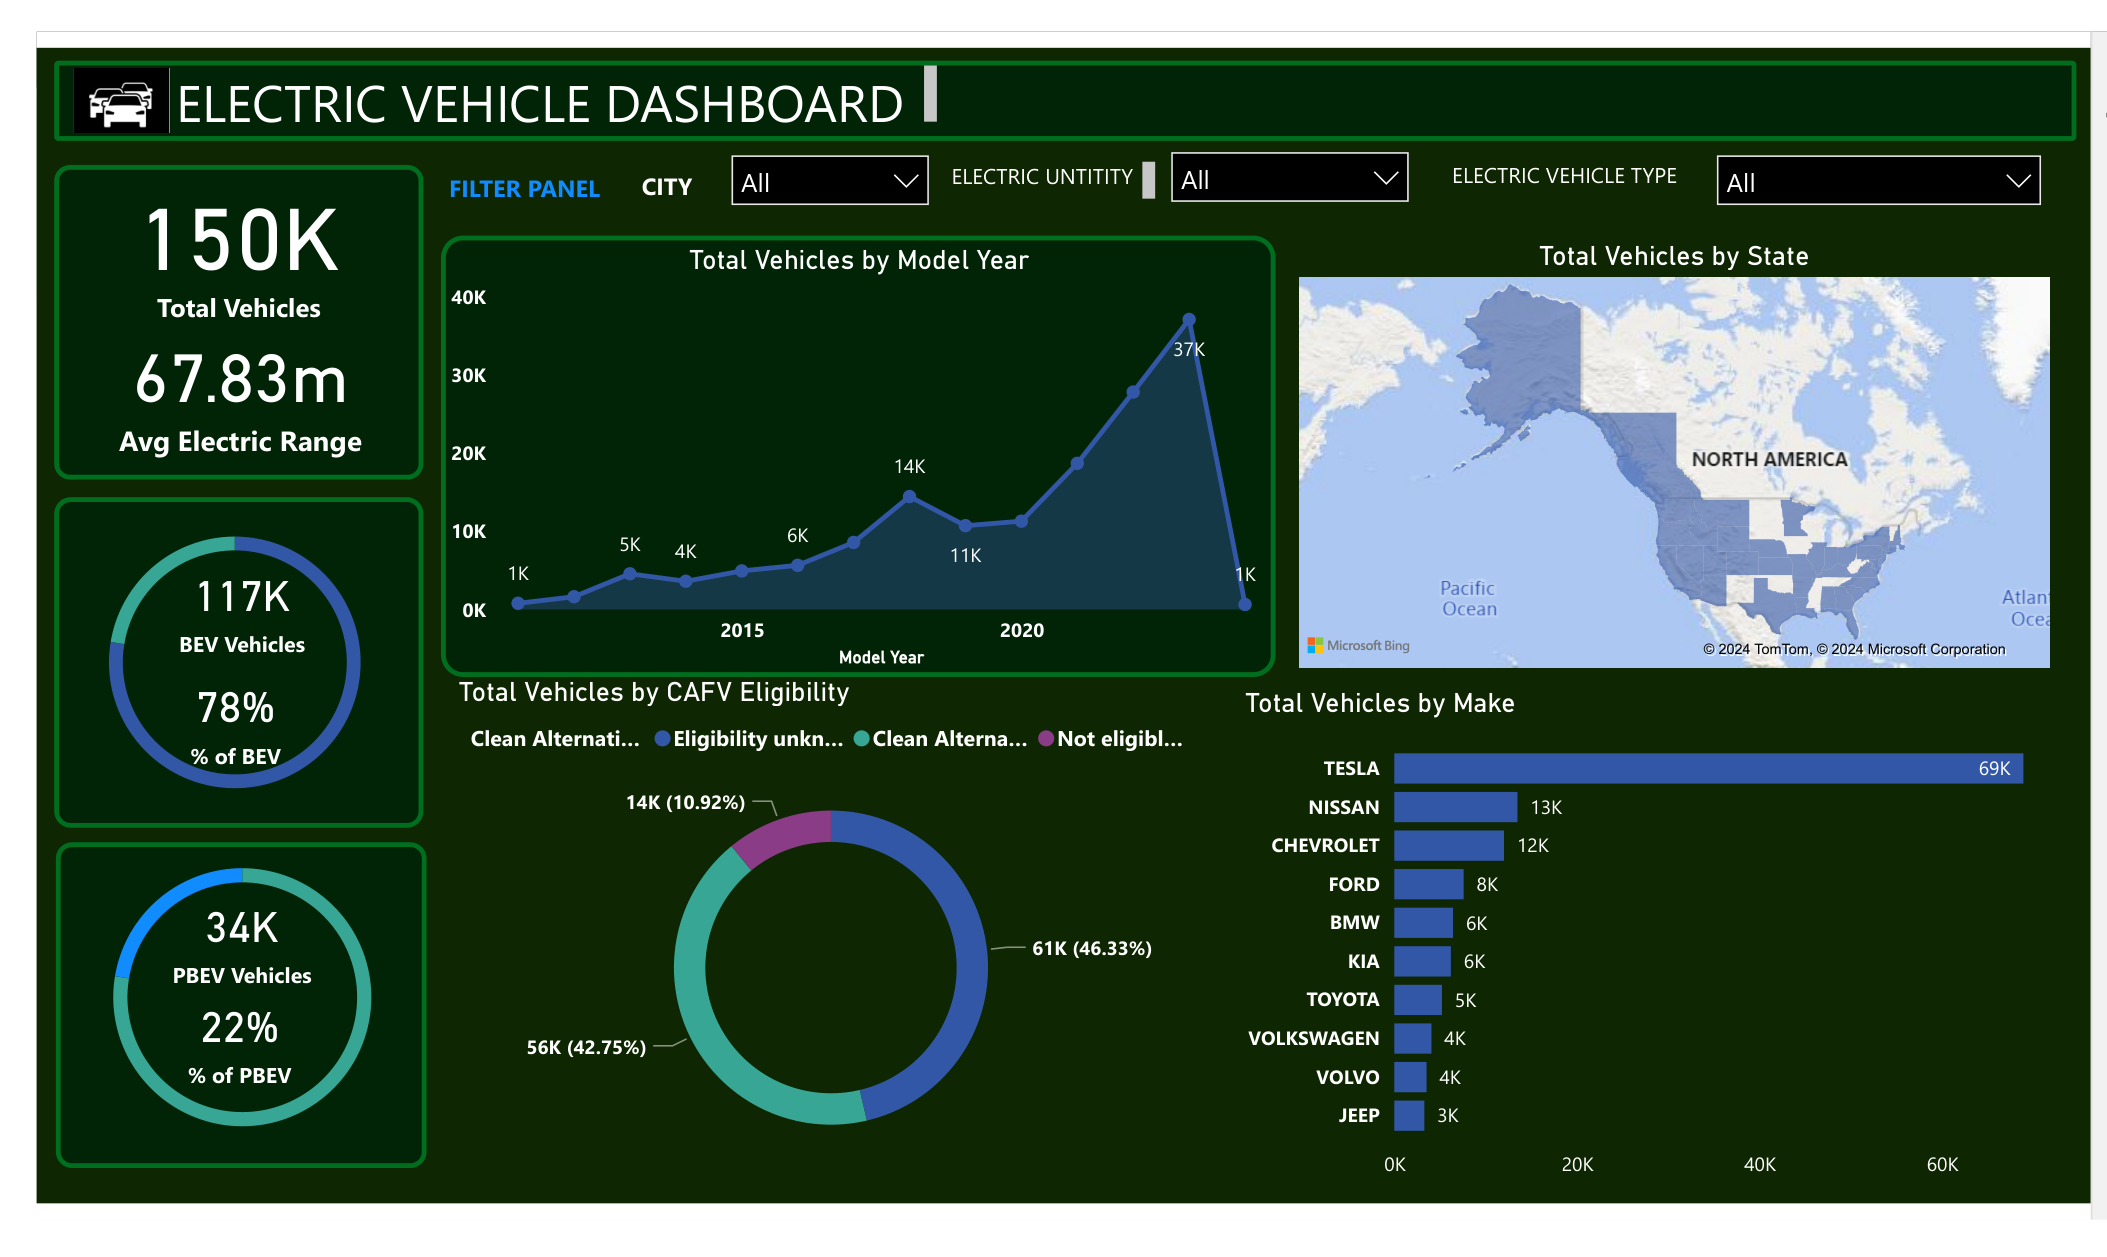

What the dashboard file says about the page in this screenshot:
{"tool":"powerbi","page":{"name":"Page 1","canvas":[1280,720],"ordinal":0},"visuals":[{"type":"shape","box":[10.9,8.4,1260.3,49.4],"z":0},{"type":"textbox","box":[82,6,483.6,49.4],"z":1000},{"type":"shape","box":[10.6,72.6,230.9,196.6],"z":2000},{"type":"card","fields":{"Values":["Electric_Vehicle_Population_Data.Total Vehicles"]},"box":[17.2,72.6,217.7,100.3],"z":3000},{"type":"card","title":"Avg Electric Range","fields":{"Values":["Electric_Vehicle_Population_Data.Avg Range"]},"box":[18.5,155.7,217.7,113.5],"z":4000},{"type":"shape","box":[10.6,279.8,230.9,205.9],"z":5000},{"type":"shape","box":[11.9,494.8,230.9,203.2],"z":6000},{"type":"donutChart","title":"Avg Electric Range","fields":{"Y":["Electric_Vehicle_Population_Data.Total Vehicles"],"Category":["Electric_Vehicle_Population_Data.Electric Vehicle Type"]},"box":[11.9,279.8,223,205.9],"z":7000},{"type":"card","fields":{"Values":["Electric_Vehicle_Population_Data.BEV Vehicles"]},"box":[60.7,312.7,134.6,72.6],"z":8000},{"type":"card","fields":{"Values":["Electric_Vehicle_Population_Data.% of BEV"]},"box":[56.7,382.7,134.6,71.3],"z":9000},{"type":"donutChart","title":"Avg Electric Range","fields":{"Y":["Electric_Vehicle_Population_Data.Total Vehicles"],"Category":["Electric_Vehicle_Population_Data.Electric Vehicle Type"]},"box":[15.8,485.6,224.3,211.1],"z":10000},{"type":"card","fields":{"Values":["Electric_Vehicle_Population_Data.PBEV Vehicles"]},"box":[45.8,518.6,164,72.4],"z":11000},{"type":"card","fields":{"Values":["Electric_Vehicle_Population_Data.% of PBEV"]},"box":[59.4,581.9,134.6,71.3],"z":12000},{"type":"shape","box":[252.1,117,519.8,275],"z":14000},{"type":"areaChart","fields":{"Category":["Electric_Vehicle_Population_Data.Model Year"],"Y":["Electric_Vehicle_Population_Data.Total Vehicles"]},"box":[252.7,122.2,519.2,269.3],"z":15000},{"type":"filledMap","fields":{"Category":["Electric_Vehicle_Population_Data.State"]},"box":[781.5,119.4,477.6,272.6],"z":16000},{"type":"barChart","fields":{"Category":["Electric_Vehicle_Population_Data.Make"],"Y":["Electric_Vehicle_Population_Data.Total Vehicles"]},"box":[748.3,398.4,510.9,315.1],"z":17000},{"type":"donutChart","title":"Total Vehicles by CAFV Eligibility","fields":{"Category":["Electric_Vehicle_Population_Data.Clean Alternative Fuel Vehicle (CAFV) Eligibility"],"Y":["Electric_Vehicle_Population_Data.Total Vehicles"]},"box":[258.1,390.8,474,314.8],"z":18000},{"type":"textbox","box":[252.1,72.4,114.6,30.2],"z":20000},{"type":"slicer","fields":{"Values":["Electric_Vehicle_Population_Data.City"]},"box":[423.3,56.7,142.3,51.9],"z":20001},{"type":"textbox","box":[372.5,71.2,59.7,37.5],"z":20002},{"type":"slicer","fields":{"Values":["Electric_Vehicle_Population_Data.Electric Utility"]},"box":[697.1,55.5,167.6,51.9],"z":20003},{"type":"textbox","box":[565.5,66.5,136.1,37.5],"z":20004},{"type":"slicer","fields":{"Values":["Electric_Vehicle_Population_Data.Electric Vehicle Type"]},"box":[1037.2,56.7,221.9,51.9],"z":20005},{"type":"textbox","box":[876.8,65.1,160.4,37.4],"z":20006},{"type":"image","box":[12.1,8.4,82,49.4],"z":20007}]}

Visuals, with their boxes on the page's 1280x720 design canvas (x1, y1, x2, y2). These are canvas units, not pixel positions in the 2107x1257 screenshot, which may show the page scaled, cropped or inside an application window:
shape: {"x1": 11, "y1": 8, "x2": 1271, "y2": 58}
textbox: {"x1": 82, "y1": 6, "x2": 566, "y2": 55}
shape: {"x1": 11, "y1": 73, "x2": 242, "y2": 269}
card - Electric_Vehicle_Population_Data.Total Vehicles: {"x1": 17, "y1": 73, "x2": 235, "y2": 173}
"Avg Electric Range" card: {"x1": 18, "y1": 156, "x2": 236, "y2": 269}
shape: {"x1": 11, "y1": 280, "x2": 242, "y2": 486}
shape: {"x1": 12, "y1": 495, "x2": 243, "y2": 698}
"Avg Electric Range" donutChart: {"x1": 12, "y1": 280, "x2": 235, "y2": 486}
card - Electric_Vehicle_Population_Data.BEV Vehicles: {"x1": 61, "y1": 313, "x2": 195, "y2": 385}
card - Electric_Vehicle_Population_Data.% of BEV: {"x1": 57, "y1": 383, "x2": 191, "y2": 454}
"Avg Electric Range" donutChart: {"x1": 16, "y1": 486, "x2": 240, "y2": 697}
card - Electric_Vehicle_Population_Data.PBEV Vehicles: {"x1": 46, "y1": 519, "x2": 210, "y2": 591}
card - Electric_Vehicle_Population_Data.% of PBEV: {"x1": 59, "y1": 582, "x2": 194, "y2": 653}
shape: {"x1": 252, "y1": 117, "x2": 772, "y2": 392}
areaChart - Electric_Vehicle_Population_Data.Model Year x Electric_Vehicle_Population_Data.Total Vehicles: {"x1": 253, "y1": 122, "x2": 772, "y2": 392}
filledMap - Electric_Vehicle_Population_Data.State: {"x1": 782, "y1": 119, "x2": 1259, "y2": 392}
barChart - Electric_Vehicle_Population_Data.Make x Electric_Vehicle_Population_Data.Total Vehicles: {"x1": 748, "y1": 398, "x2": 1259, "y2": 714}
"Total Vehicles by CAFV Eligibility" donutChart: {"x1": 258, "y1": 391, "x2": 732, "y2": 706}
textbox: {"x1": 252, "y1": 72, "x2": 367, "y2": 103}
slicer - Electric_Vehicle_Population_Data.City: {"x1": 423, "y1": 57, "x2": 566, "y2": 109}
textbox: {"x1": 372, "y1": 71, "x2": 432, "y2": 109}
slicer - Electric_Vehicle_Population_Data.Electric Utility: {"x1": 697, "y1": 56, "x2": 865, "y2": 107}
textbox: {"x1": 566, "y1": 66, "x2": 702, "y2": 104}
slicer - Electric_Vehicle_Population_Data.Electric Vehicle Type: {"x1": 1037, "y1": 57, "x2": 1259, "y2": 109}
textbox: {"x1": 877, "y1": 65, "x2": 1037, "y2": 102}
image: {"x1": 12, "y1": 8, "x2": 94, "y2": 58}
